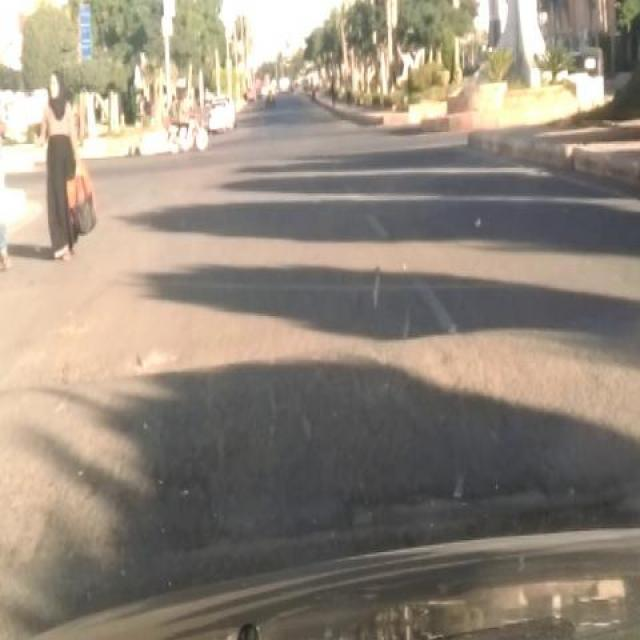Unmarked Bump: (293, 313, 640, 527), (0, 337, 292, 567)
